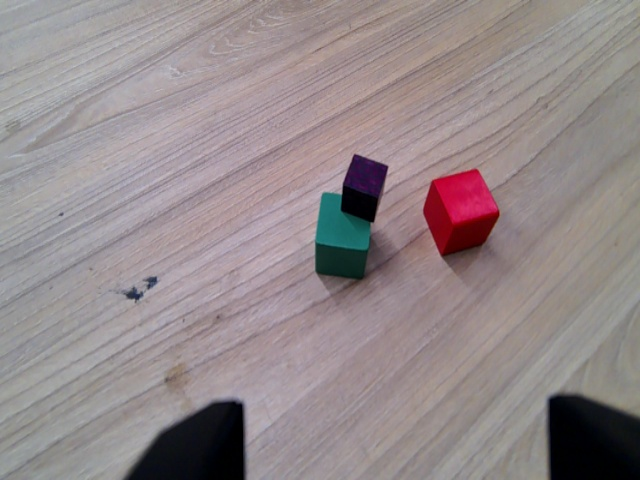brick: (340, 152, 390, 224)
